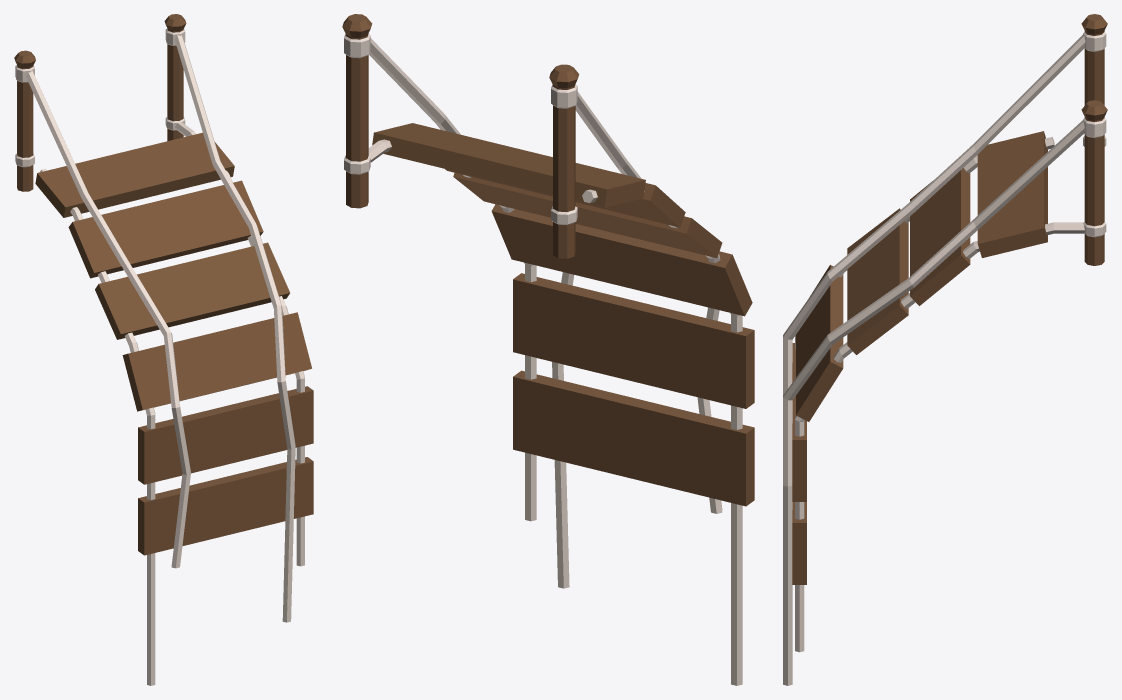
The model's file is Isl_7_Bridge.fbx.
The picture shows the model from 3 angles, left to right: view 1: azimuth 30°, elevation 25°; view 2: azimuth 150°, elevation 25°; view 3: azimuth 270°, elevation 25°; orthographic projection. The views are drawn at different scales.
Visible parts, largest first — view 1: Isl_7_Bridge; view 2: Isl_7_Bridge; view 3: Isl_7_Bridge.
Part boxes in pixels (left/top/right/bottom): Isl_7_Bridge: left=14, top=14, right=313, bottom=685; Isl_7_Bridge: left=342, top=14, right=754, bottom=685; Isl_7_Bridge: left=783, top=14, right=1107, bottom=685.
Size of the model in its own units: 200 by 282 by 606.
Materials: 1 (1 with a texture image).
